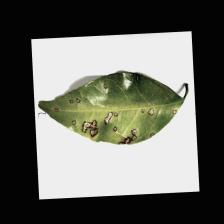canker: (50, 94, 144, 155)
